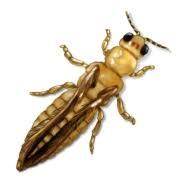Thrips: (16, 17, 154, 166)
